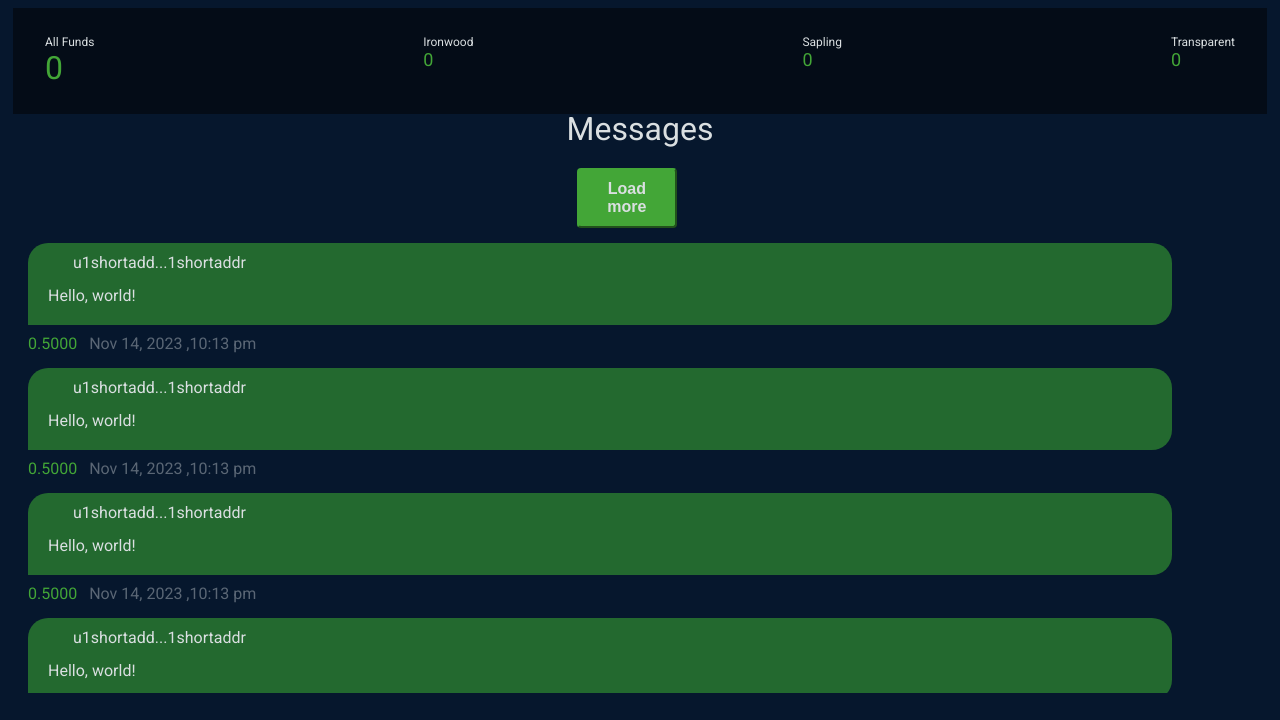
Test: Messages › shows 'Load more' when there are more than 100 messages, and clicking increments
This screenshot has width=1280, height=720.
Click the button "Load more" at (627, 198), box [577,168,677,228]
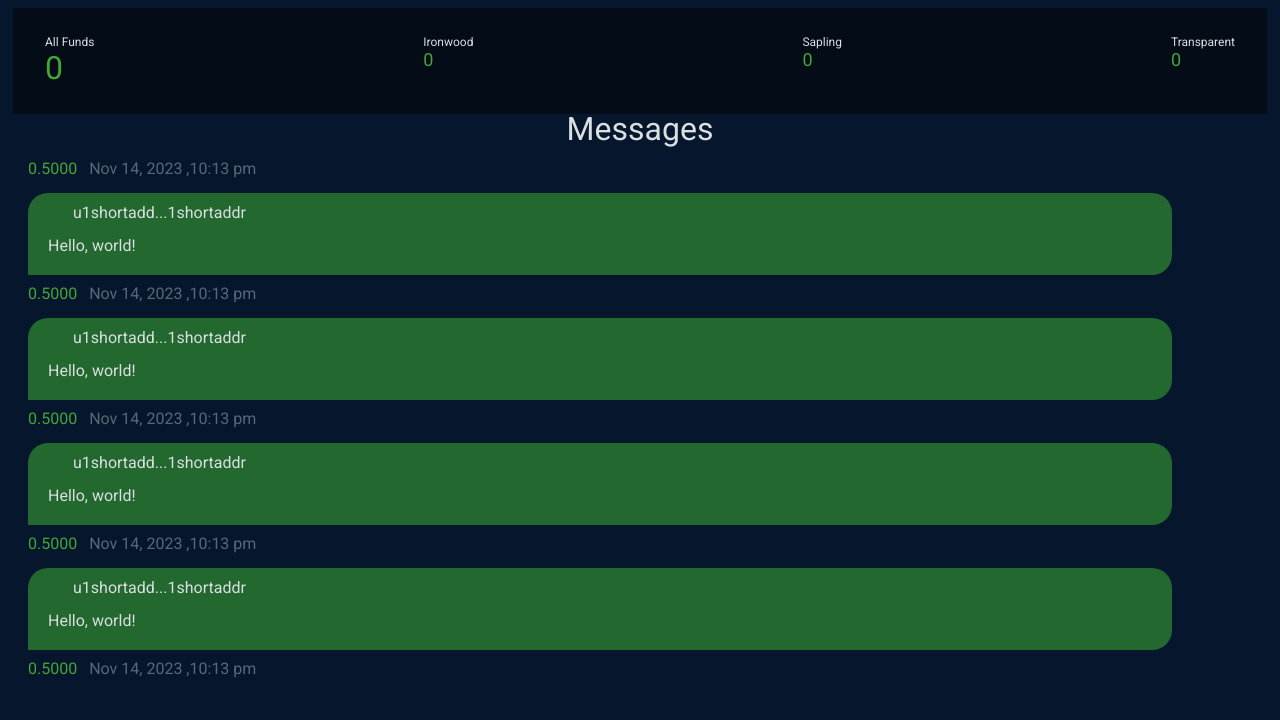
Expected: the button "Load more" is gone
